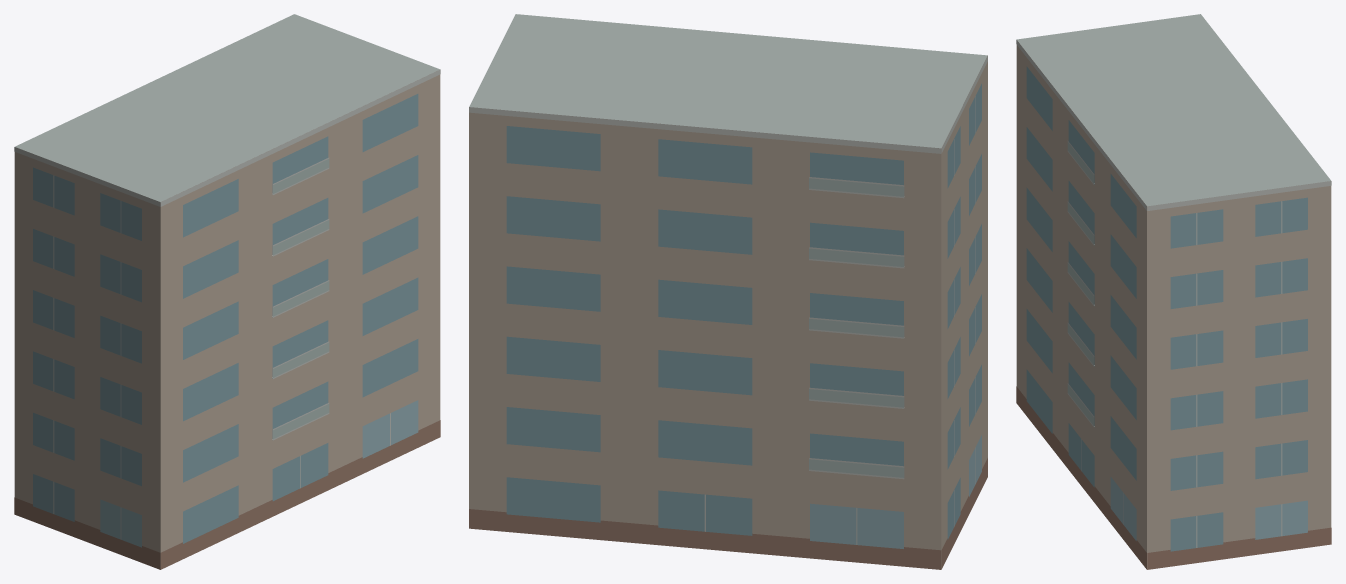
File: survey-upis-32557681.glb
3 views of the same model, side by side, from view 1: azimuth 30°, elevation 25°; view 2: azimuth 150°, elevation 25°; view 3: azimuth 270°, elevation 25° (orthographic). The views are drawn at different scales.
Visible parts, largest first — view 1: survey-upis-32557681.tmp; view 2: survey-upis-32557681.tmp; view 3: survey-upis-32557681.tmp.
Boxes of the visible parts, x1,y1,x2,y2 form: survey-upis-32557681.tmp: (14, 14, 440, 569); survey-upis-32557681.tmp: (469, 14, 987, 569); survey-upis-32557681.tmp: (1016, 14, 1331, 569).
Bounding box in the file's own units: 20.77 × 18.3 × 14.38.
